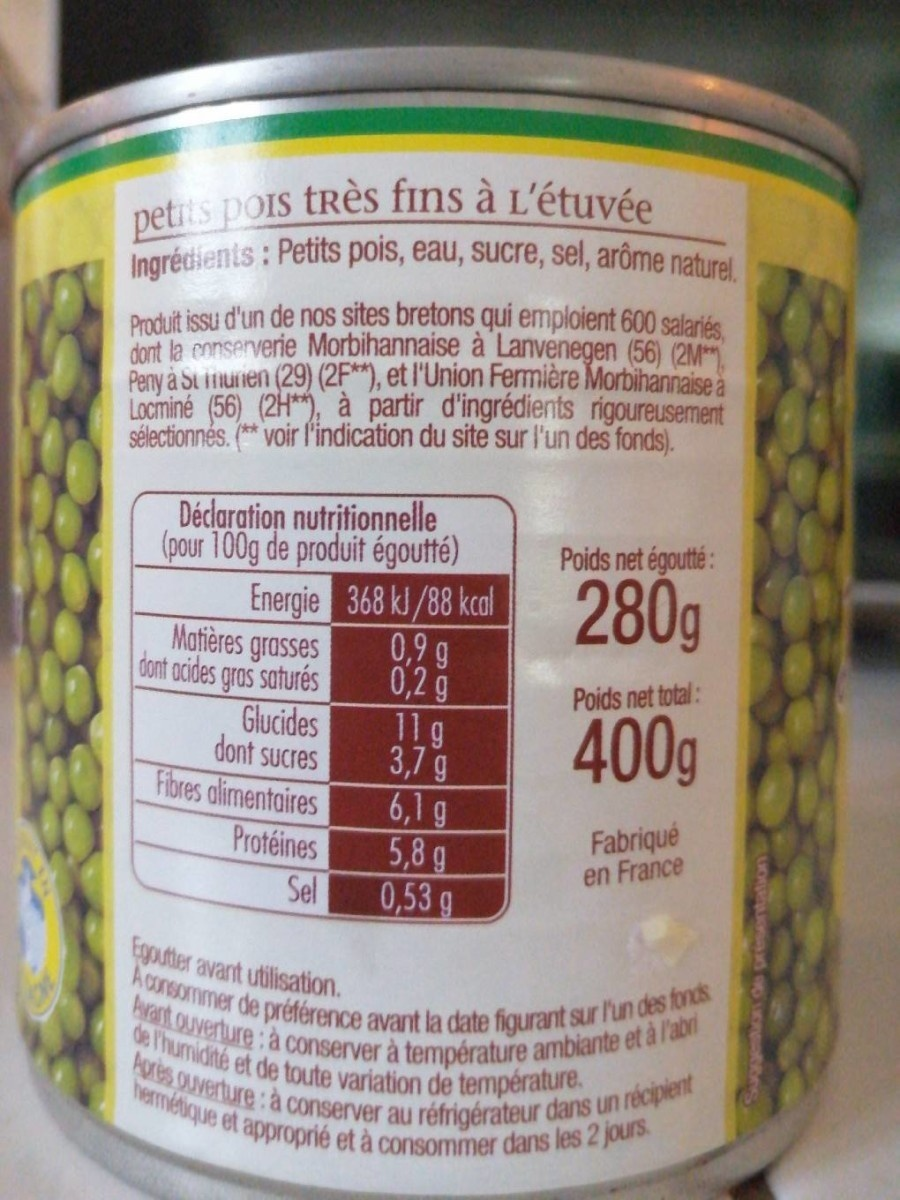column: (129, 492, 512, 930), (140, 577, 325, 912), (342, 581, 498, 919)
